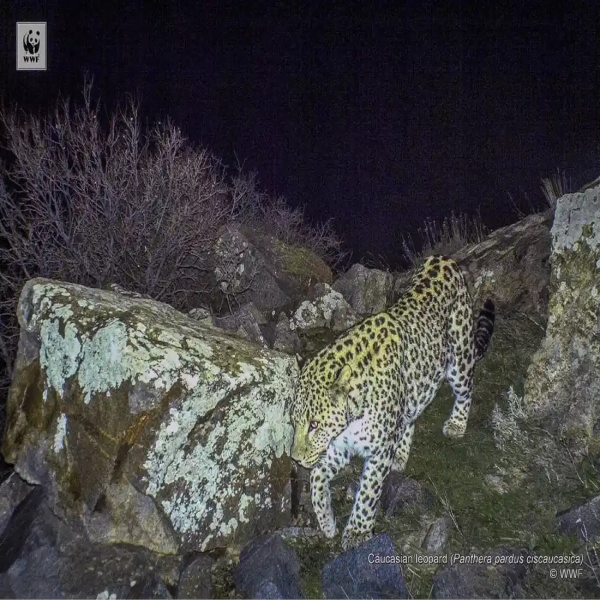Leopard: (286, 252, 483, 550)
